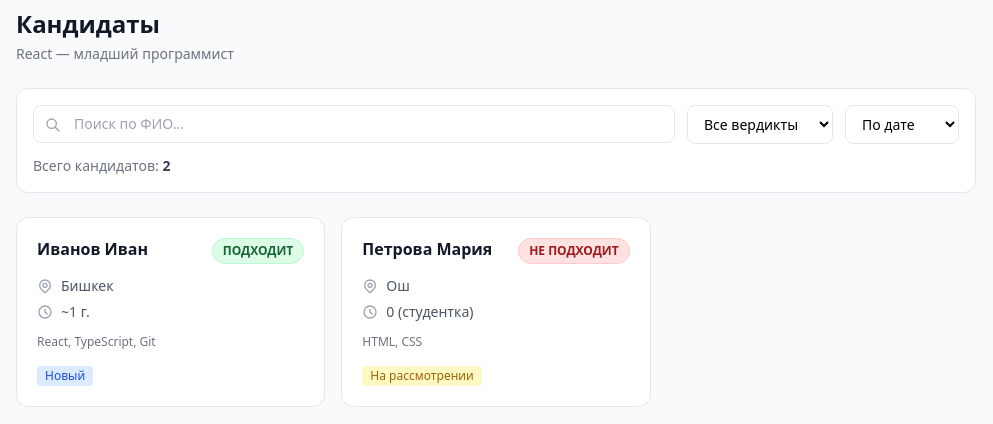
Test case: CandidatesPage › filters candidates by verdict
Select "ПОДХОДИТ" in the dropdown named "Фильтр по вердикту": (760,124) [687,105,833,144]
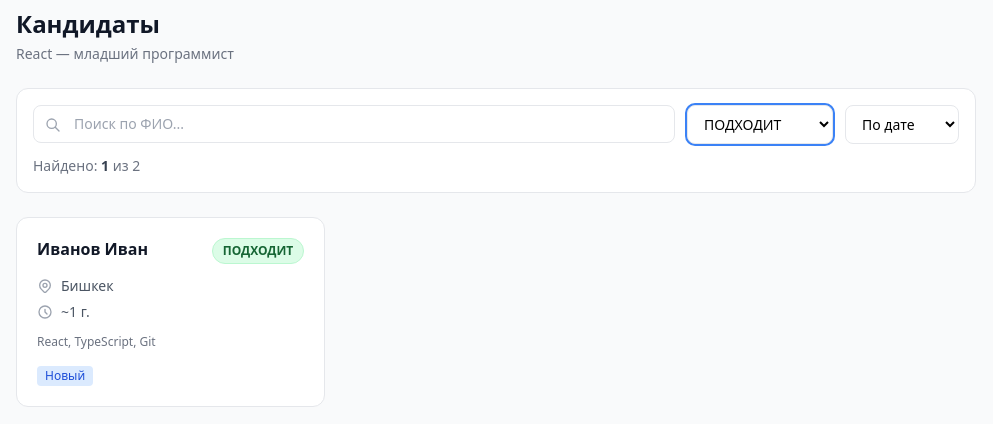
Expected: the heading "Иванов Иван" is shown, [37,238,148,260]
Expected: the link "Петрова Мария" is gone
